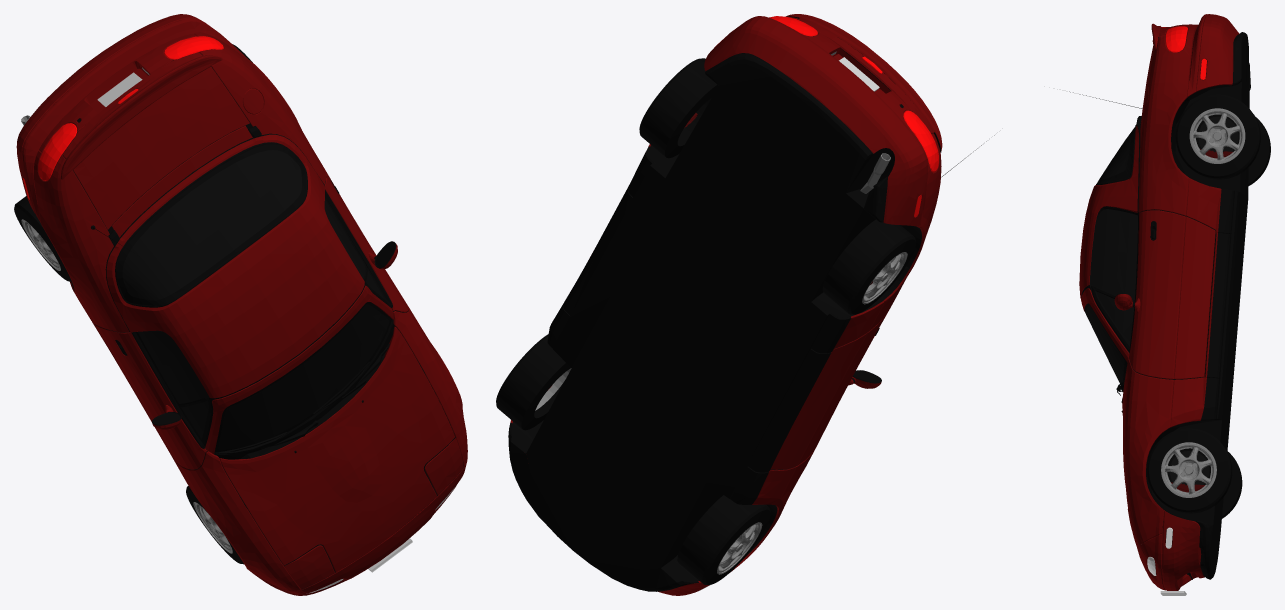
File: mazda_mx5_miata_reduced24000.obj
The picture shows the model from 3 angles, left to right: view 1: azimuth 30°, elevation 25°; view 2: azimuth 150°, elevation 25°; view 3: azimuth 270°, elevation 25°; orthographic projection. The views are drawn at different scales.
Visible parts, largest first — view 1: Mazda_MX5_Miata_Paint_0, Mazda_MX5_Miata_Windows_0, Mazda_MX5_Miata_Black_0, Pop_ups_Paint_0, Mazda_MX5_Miata_Red_Lights_0, Rear_Wheels_Black_0, Mazda_MX5_Miata_Licence_Plate_0; view 2: Mazda_MX5_Miata_Black_0, Mazda_MX5_Miata_Paint_0, Rear_Wheels_Black_0, Front_Right_Wheels_Black_0, Front_Left_Wheels_Black_0, Mazda_MX5_Miata_Red_Lights_0, Front_Right_Wheels_Rims_0, Rear_Wheels_Rims_0; view 3: Mazda_MX5_Miata_Paint_0, Mazda_MX5_Miata_Black_0, Mazda_MX5_Miata_Windows_0, Rear_Wheels_Black_0, Front_Left_Wheels_Black_0, Front_Left_Wheels_Rims_0, Rear_Wheels_Rims_0, Front_Right_Wheels_Black_0, Mazda_MX5_Miata_Red_Lights_0, Rear_Wheels_Disk_0, Front_Left_Wheels_Disk_0.
Boxes of the visible parts, <box> form: Mazda_MX5_Miata_Paint_0: <box>16,14,467,595</box>; Mazda_MX5_Miata_Windows_0: <box>122,150,389,449</box>; Mazda_MX5_Miata_Black_0: <box>55,49,463,589</box>; Pop_ups_Paint_0: <box>284,438,463,589</box>; Mazda_MX5_Miata_Red_Lights_0: <box>23,36,223,199</box>; Rear_Wheels_Black_0: <box>14,44,252,281</box>; Mazda_MX5_Miata_Licence_Plate_0: <box>97,72,412,572</box>; Mazda_MX5_Miata_Black_0: <box>508,16,994,591</box>; Mazda_MX5_Miata_Paint_0: <box>510,14,942,595</box>; Rear_Wheels_Black_0: <box>639,58,915,314</box>; Front_Right_Wheels_Black_0: <box>677,495,770,584</box>; Front_Left_Wheels_Black_0: <box>496,334,570,430</box>; Mazda_MX5_Miata_Red_Lights_0: <box>715,16,938,217</box>; Front_Right_Wheels_Rims_0: <box>717,522,762,574</box>; Rear_Wheels_Rims_0: <box>862,252,907,304</box>; Mazda_MX5_Miata_Paint_0: <box>1079,14,1239,590</box>; Mazda_MX5_Miata_Black_0: <box>1069,32,1250,579</box>; Mazda_MX5_Miata_Windows_0: <box>1085,130,1137,385</box>; Rear_Wheels_Black_0: <box>1175,94,1270,186</box>; Front_Left_Wheels_Black_0: <box>1147,428,1232,513</box>; Front_Left_Wheels_Rims_0: <box>1161,442,1216,497</box>; Rear_Wheels_Rims_0: <box>1189,108,1245,163</box>; Front_Right_Wheels_Black_0: <box>1222,451,1242,518</box>; Mazda_MX5_Miata_Red_Lights_0: <box>1162,26,1206,79</box>; Rear_Wheels_Disk_0: <box>1198,116,1239,152</box>; Front_Left_Wheels_Disk_0: <box>1169,450,1209,485</box>.
Bounding box in the file's own units: 1.12 × 1.52 × 0.6275.
